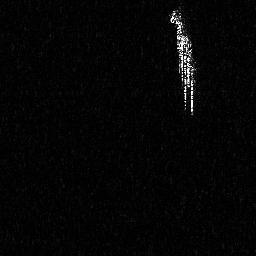ship: (169, 7, 199, 117)
